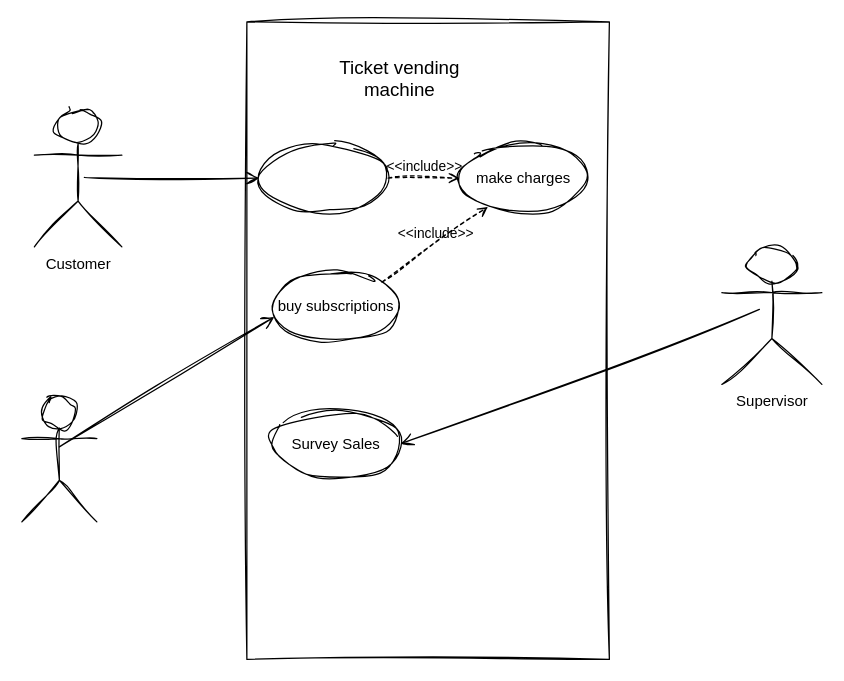
Some shapes in this 844 by 681 pixel diagram are drawn without their labels. The shapes that lost their labels are listed below. From the top down, each one's centre as x and y in pixels, then its label:
At [323,177]: "buy tickets".
At [59,459]: "Clerk".
